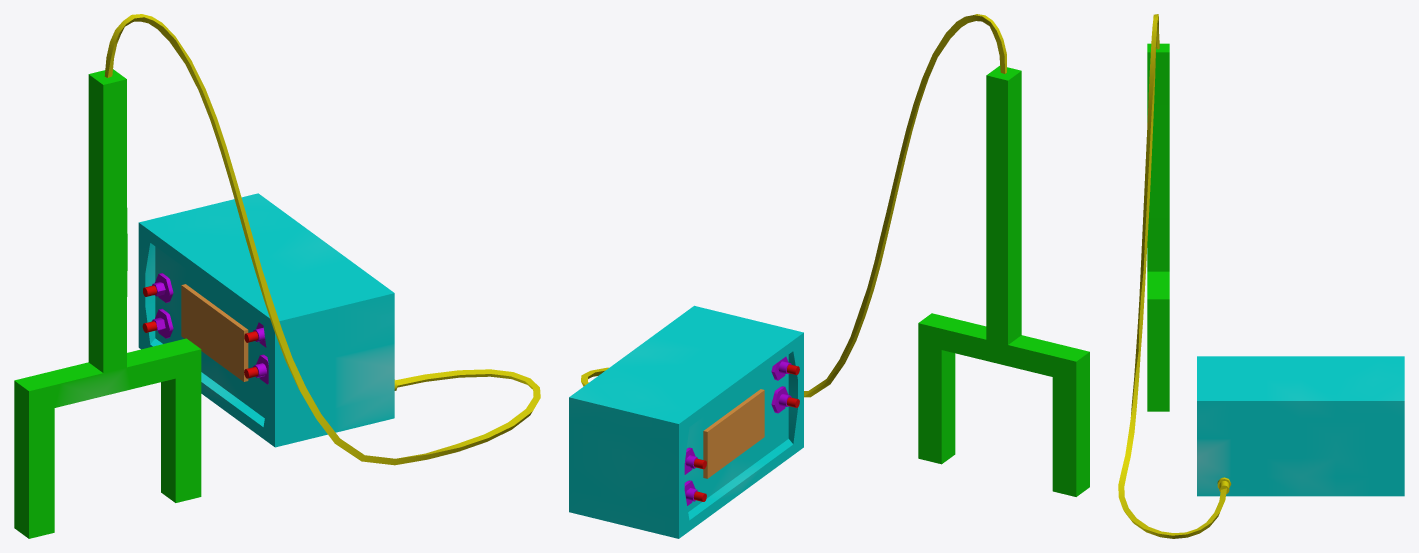
The model's file is fotocelula.fbx.
3 views of the same model, side by side, from view 1: azimuth 30°, elevation 25°; view 2: azimuth 150°, elevation 25°; view 3: azimuth 270°, elevation 25° (orthographic). The views are drawn at different scales.
Parts seen in each view (by area): view 1: Retopo_Cube; view 2: Retopo_Cube; view 3: Retopo_Cube.
Boxes of the visible parts, box(x1,y1,x2,y2) form: Retopo_Cube: box(14, 14, 540, 538); Retopo_Cube: box(569, 14, 1089, 538); Retopo_Cube: box(1118, 14, 1404, 538).
Bounding box in the file's own units: 112 × 99.84 × 69.15.
